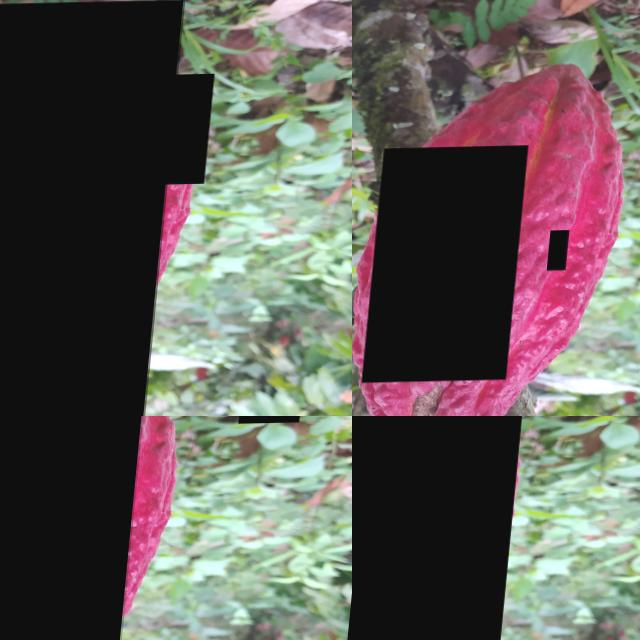Fitoftora: (553, 232, 575, 272)
Sana: (0, 1, 186, 416), (352, 416, 531, 640), (370, 147, 532, 384), (0, 416, 153, 640), (145, 76, 217, 187), (606, 199, 640, 258), (614, 139, 630, 173), (625, 132, 637, 150), (633, 128, 640, 145), (472, 67, 479, 78)
